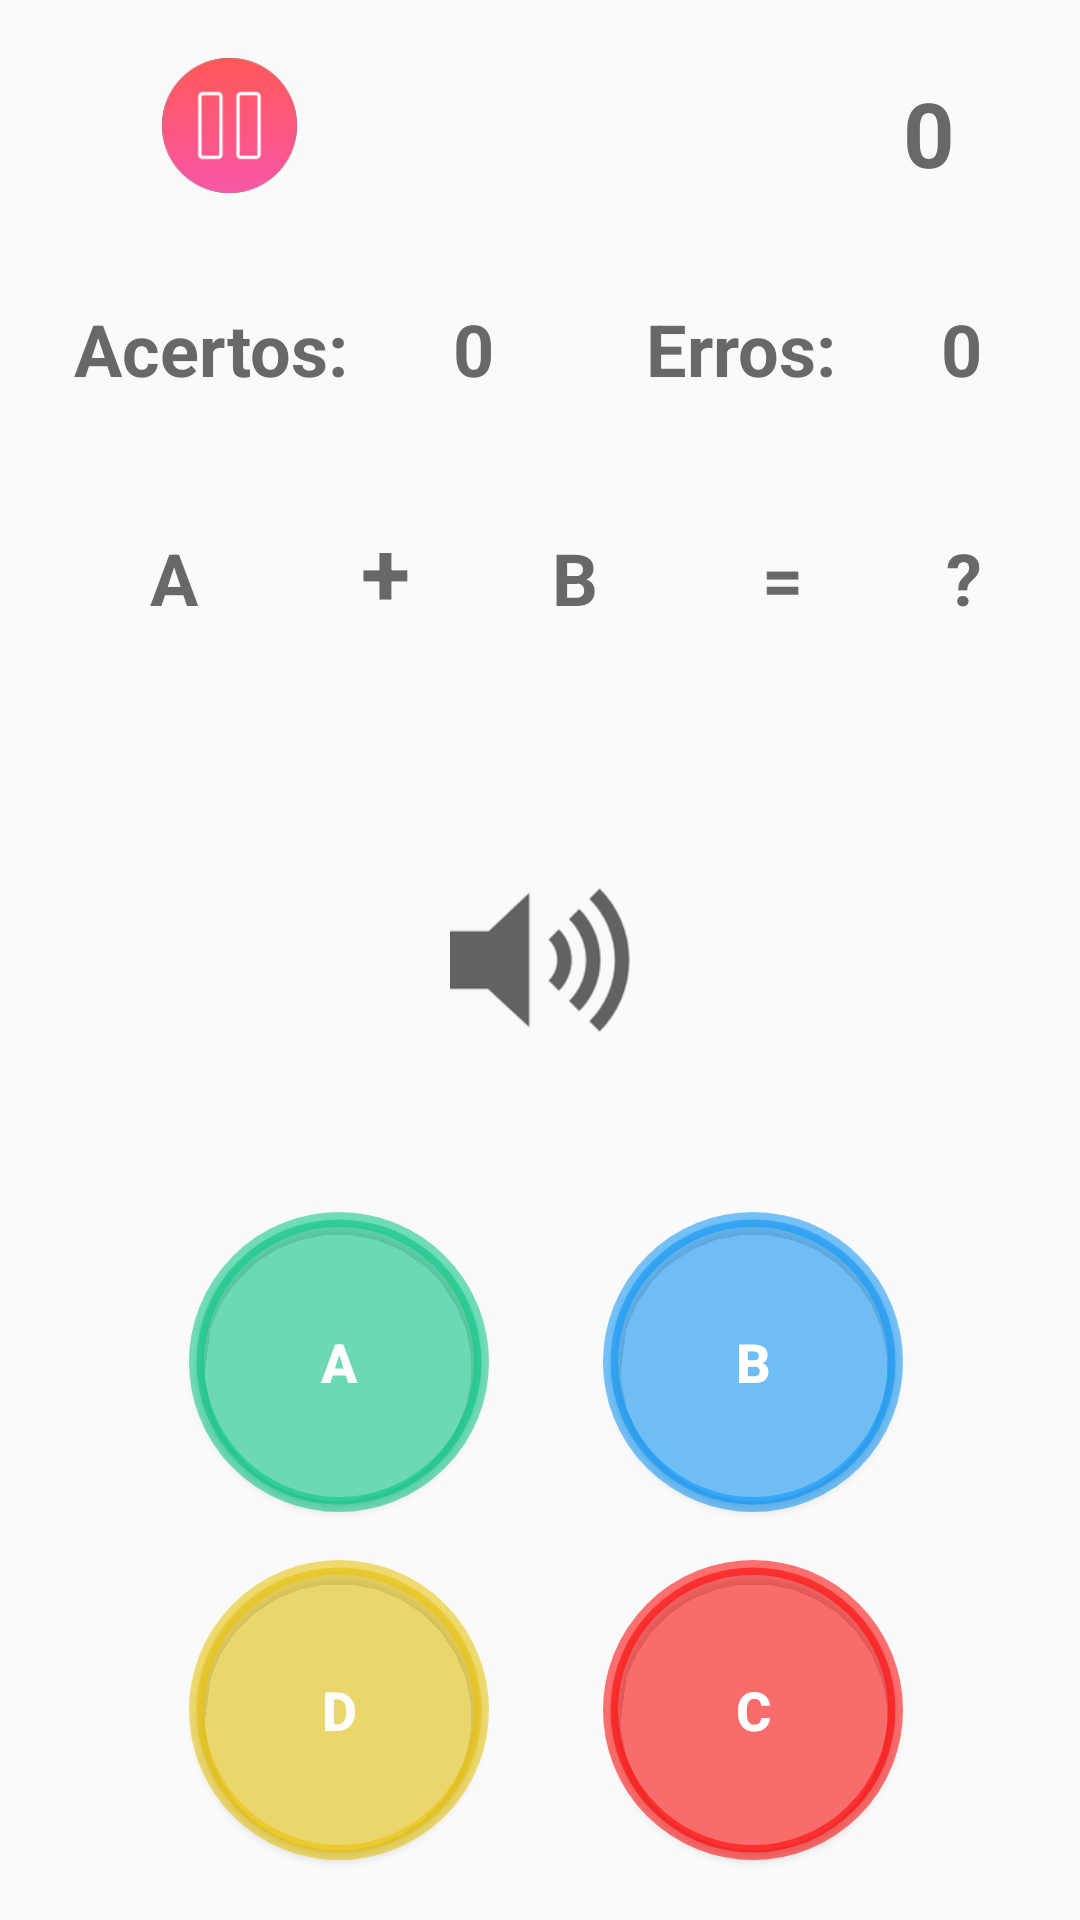

Screen size 1080 × 1920. Icon name, then its box in pixels as bbox(x1, y1, x2, y2):
audio: bbox(450, 888, 630, 1032)
pause: bbox(162, 58, 297, 193)
